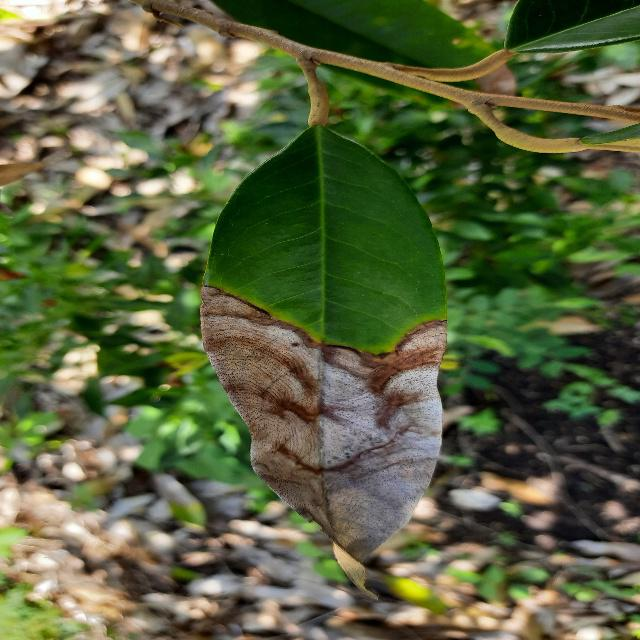Leaf Blight: (191, 107, 455, 607)
